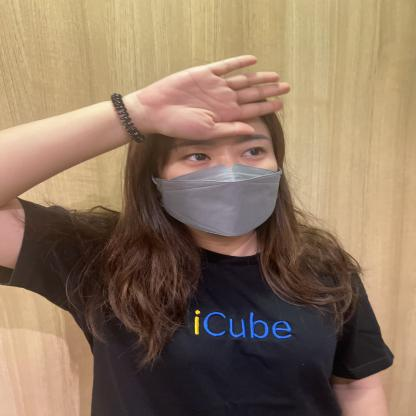Sick: (103, 42, 332, 160)
